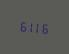one: (26, 19, 33, 33), (34, 20, 41, 34)
six: (18, 18, 25, 33), (42, 20, 49, 35)
